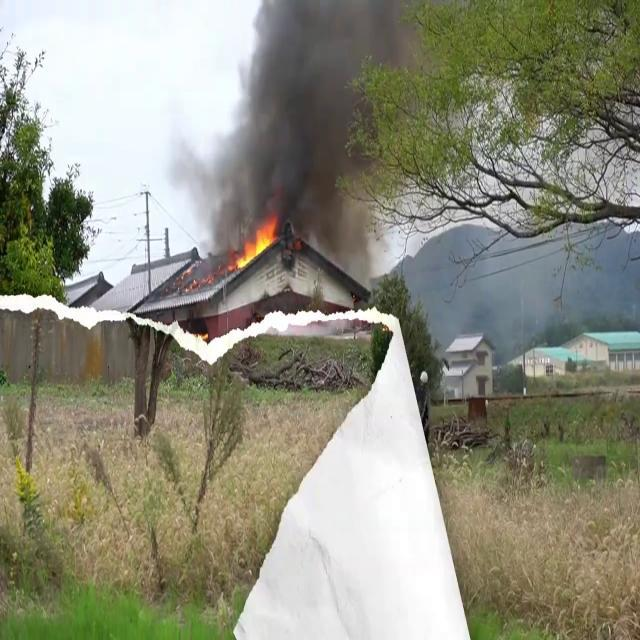Fire: (232, 215, 280, 274)
Smoke: (196, 0, 406, 255)
